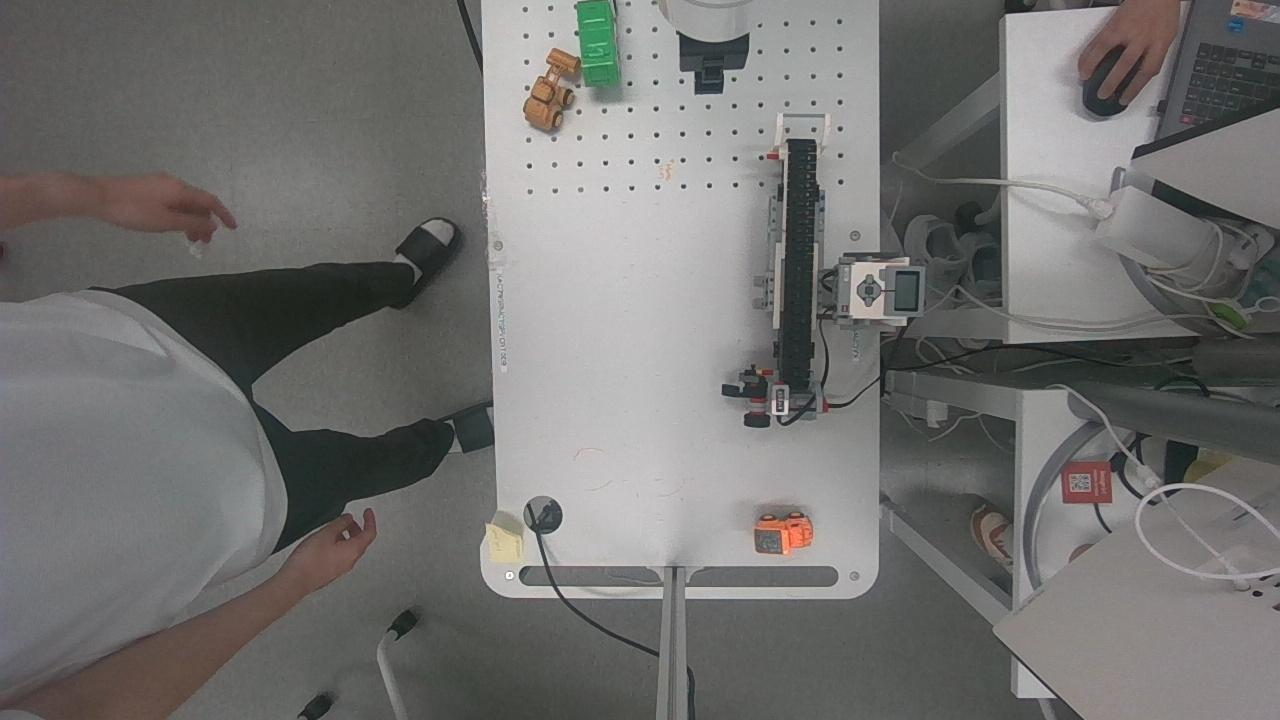green_car: (574, 0, 623, 89)
orange_car: (750, 509, 817, 558)
yellow_car: (517, 49, 581, 138)
